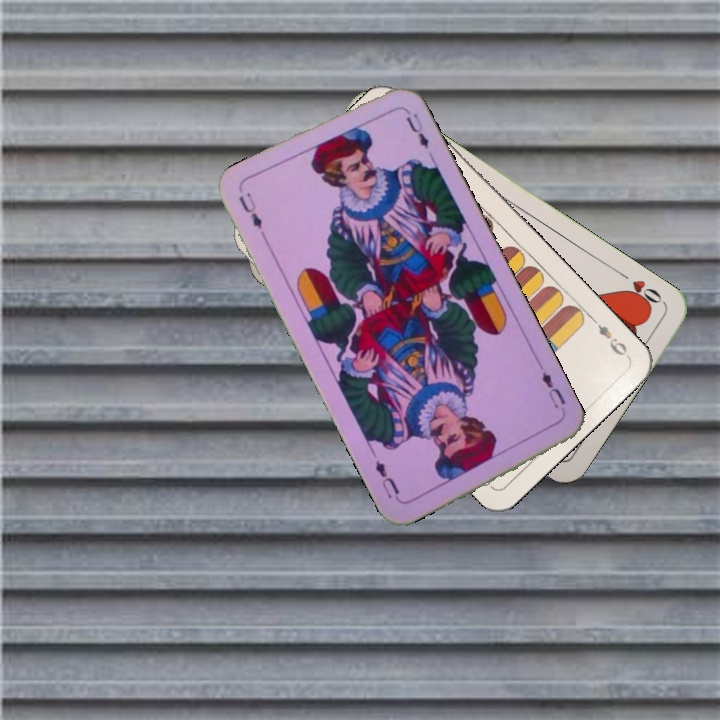E9: (587, 313, 631, 359)
EU: (537, 367, 569, 416), (234, 187, 265, 232)
HO: (614, 267, 666, 312)
